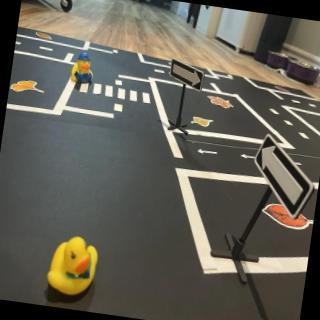duck_regular: (44, 231, 103, 301)
duck_specialty: (69, 50, 98, 88)
road_crosswalk: (77, 79, 154, 108)
road_oneway: (198, 145, 220, 159), (238, 150, 259, 164)
sign_oneway_left: (248, 136, 320, 220)
sign_oneway_right: (168, 61, 207, 93)
